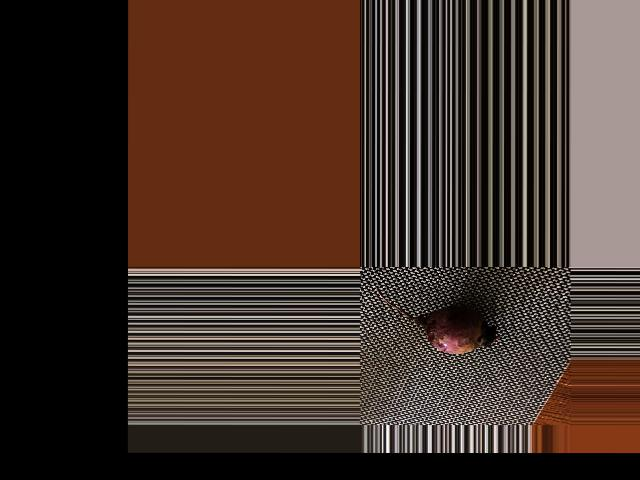beet: (375, 286, 500, 352)
